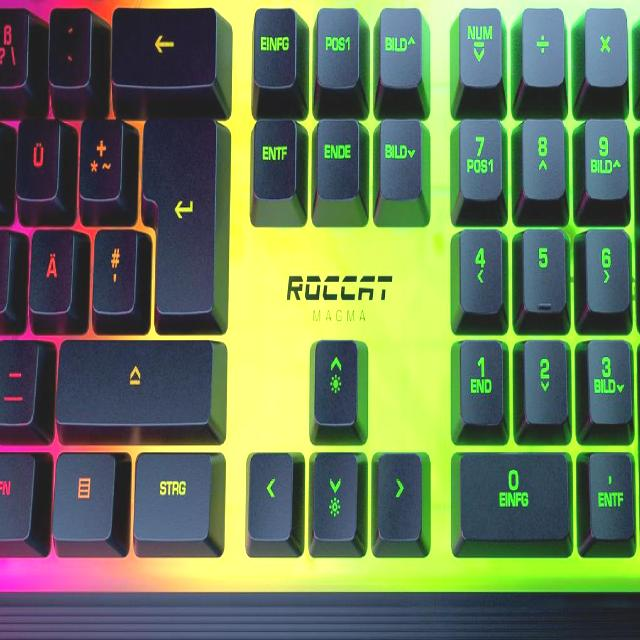accent: (46, 0, 92, 86)
ae: (27, 223, 74, 315)
del: (108, 1, 218, 87)
enter: (140, 109, 218, 325)
hash: (89, 224, 137, 314)
minus: (0, 332, 38, 425)
plus: (76, 113, 122, 199)
shift-right: (51, 334, 217, 427)
ss: (0, 4, 28, 88)
strg-right: (130, 447, 215, 545)
ue: (13, 113, 59, 199)
